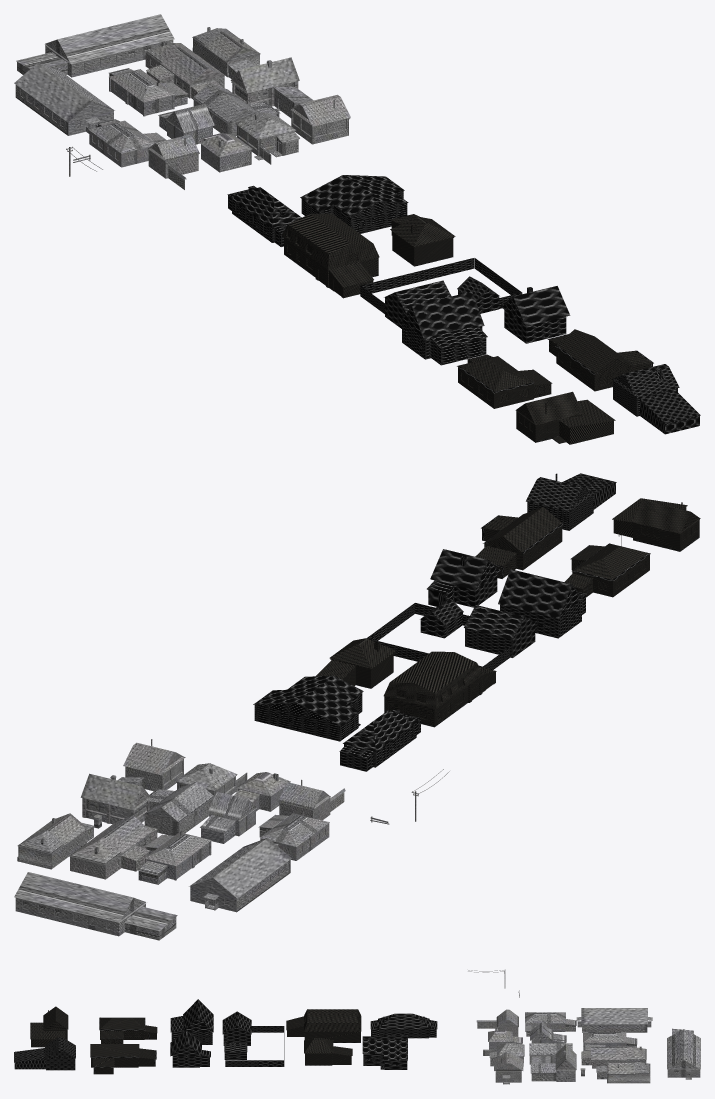
Rendered from House Pack.fbx.
3 views of the same model, one above another, from view 1: azimuth 30°, elevation 25°; view 2: azimuth 150°, elevation 25°; view 3: azimuth 270°, elevation 25° (orthographic). The views are drawn at different scales.
Visible parts, largest first — view 1: House1, House14, House2, House (×2), House4, House5, House18, House10, House9, House7, House8, House6 (+11 smaller); view 2: House14, House1, House4, House (×2), House5, House18, House2, House7, House21, House9, House8, House6 (+11 smaller); view 3: House1, House4, House (×2), House18, House7, House14, House10, House5, House3, House8, House2, House19 (+11 smaller).
Part boxes in pixels (x1,y1,x2,y2): House1: (282,213,379,298); House14: (16,14,174,77); House2: (399,291,487,365); House (×2): (192,83,455,266); House4: (360,258,522,328); House5: (300,175,408,233); House18: (14,63,114,135); House10: (611,364,700,434); House9: (515,391,615,444); House7: (547,329,653,391); House8: (457,354,552,408); House6: (500,286,570,343); House14: (14,872,177,940); House1: (383,651,496,727); House4: (366,599,535,669); House (×2): (144,638,395,835); House5: (253,675,363,741); House18: (189,837,291,912); House2: (498,569,587,638); House7: (475,507,563,578); House21: (69,815,157,879); House9: (612,498,700,551); House8: (564,531,650,597); House6: (427,549,501,607); House1: (286,1009,361,1042); House4: (222,1011,284,1066); House (×2): (304,1035,572,1065); House18: (576,1008,652,1032); House7: (90,1044,156,1074); House14: (667,1028,700,1079); House10: (14,1037,75,1070); House5: (362,1034,407,1069); House3: (370,1013,437,1038); House8: (99,1017,157,1043); House2: (170,999,213,1044); House19: (530,1044,576,1081).
Bounding box in the file's own units: 9653 × 1934 × 32834.
